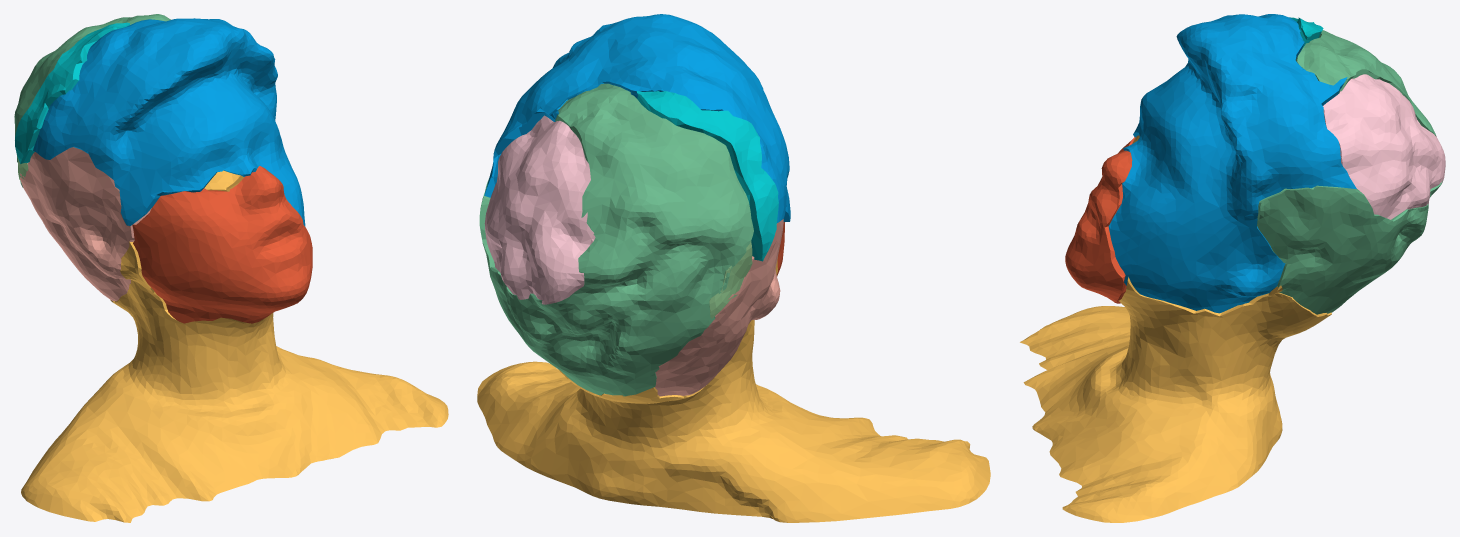
3 views of the same model, side by side, from view 1: azimuth 30°, elevation 25°; view 2: azimuth 150°, elevation 25°; view 3: azimuth 270°, elevation 25° (orthographic). The views are drawn at different scales.
Visible parts, largest first — view 1: Object_piece_8, Object_piece_8.003, Object_piece_8.001, Object_piece_8.004, Object_piece_8.007, Object_piece_8.002; view 2: Object_piece_8, Object_piece_8.002, Object_piece_8.003, Object_piece_8.005, Object_piece_8.004, Object_piece_8.007, Object_piece_8.006; view 3: Object_piece_8, Object_piece_8.003, Object_piece_8.002, Object_piece_8.005, Object_piece_8.001.
Boxes of the visible parts, x1=… form: Object_piece_8: x1=21, y1=170, x2=448, y2=522; Object_piece_8.003: x1=33, y1=18, x2=305, y2=226; Object_piece_8.001: x1=132, y1=166, x2=312, y2=323; Object_piece_8.004: x1=19, y1=147, x2=151, y2=301; Object_piece_8.007: x1=15, y1=22, x2=129, y2=163; Object_piece_8.002: x1=14, y1=14, x2=170, y2=187; Object_piece_8: x1=477, y1=257, x2=990, y2=522; Object_piece_8.002: x1=479, y1=83, x2=753, y2=396; Object_piece_8.003: x1=484, y1=14, x2=790, y2=222; Object_piece_8.005: x1=484, y1=115, x2=595, y2=304; Object_piece_8.004: x1=655, y1=219, x2=783, y2=396; Object_piece_8.007: x1=637, y1=91, x2=778, y2=261; Object_piece_8.006: x1=709, y1=241, x2=752, y2=318; Object_piece_8: x1=1020, y1=135, x2=1331, y2=522; Object_piece_8.003: x1=1108, y1=14, x2=1356, y2=313; Object_piece_8.002: x1=1257, y1=30, x2=1442, y2=314; Object_piece_8.005: x1=1323, y1=74, x2=1445, y2=219; Object_piece_8.001: x1=1065, y1=137, x2=1135, y2=303.
Size of the model in its own units: 1 by 0.886 by 0.8634.
